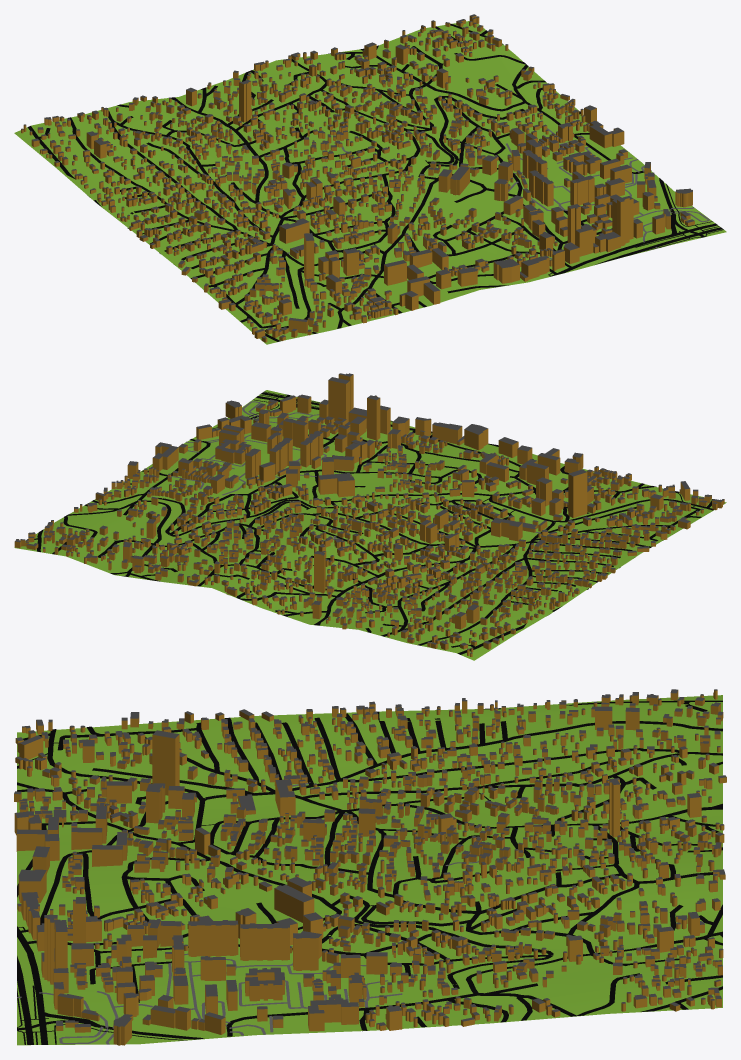
The model's file is tile_01_05.glb.
The picture shows the model from 3 angles, top to bottom: view 1: azimuth 30°, elevation 25°; view 2: azimuth 150°, elevation 25°; view 3: azimuth 270°, elevation 25°; orthographic projection. The views are drawn at different scales.
Parts seen in each view (by area): view 1: Ub_small.osm_buildings_01_05, Terrain_01_05, Ub_small.osm_roads_residential_01_05, Ub_small.osm_roads_tertiary_01_05, Ub_small.osm_roads_primary_01_05, Ub_small.osm_roads_service_01_05; view 2: Ub_small.osm_buildings_01_05, Terrain_01_05, Ub_small.osm_roads_residential_01_05, Ub_small.osm_roads_tertiary_01_05, Ub_small.osm_roads_service_01_05; view 3: Ub_small.osm_buildings_01_05, Terrain_01_05, Ub_small.osm_roads_residential_01_05, Ub_small.osm_roads_service_01_05, Ub_small.osm_roads_tertiary_01_05, Ub_small.osm_roads_primary_01_05.
Boxes of the visible parts, x1=… form: Ub_small.osm_buildings_01_05: x1=21, y1=14, x2=694, y2=342; Terrain_01_05: x1=14, y1=21, x2=726, y2=344; Ub_small.osm_roads_residential_01_05: x1=27, y1=26, x2=612, y2=341; Ub_small.osm_roads_tertiary_01_05: x1=360, y1=24, x2=699, y2=234; Ub_small.osm_roads_primary_01_05: x1=549, y1=214, x2=722, y2=276; Ub_small.osm_roads_service_01_05: x1=287, y1=128, x2=709, y2=258; Ub_small.osm_buildings_01_05: x1=14, y1=373, x2=724, y2=656; Terrain_01_05: x1=14, y1=390, x2=726, y2=660; Ub_small.osm_roads_residential_01_05: x1=27, y1=429, x2=713, y2=654; Ub_small.osm_roads_tertiary_01_05: x1=37, y1=407, x2=279, y2=576; Ub_small.osm_roads_service_01_05: x1=171, y1=401, x2=540, y2=550; Ub_small.osm_buildings_01_05: x1=14, y1=689, x2=726, y2=1045; Terrain_01_05: x1=17, y1=695, x2=722, y2=1045; Ub_small.osm_roads_residential_01_05: x1=17, y1=700, x2=722, y2=1031; Ub_small.osm_roads_service_01_05: x1=17, y1=782, x2=478, y2=1044; Ub_small.osm_roads_tertiary_01_05: x1=27, y1=931, x2=722, y2=1039; Ub_small.osm_roads_primary_01_05: x1=17, y1=926, x2=99, y2=1044.
Size of the model in its own units: 994 by 123 by 939.
